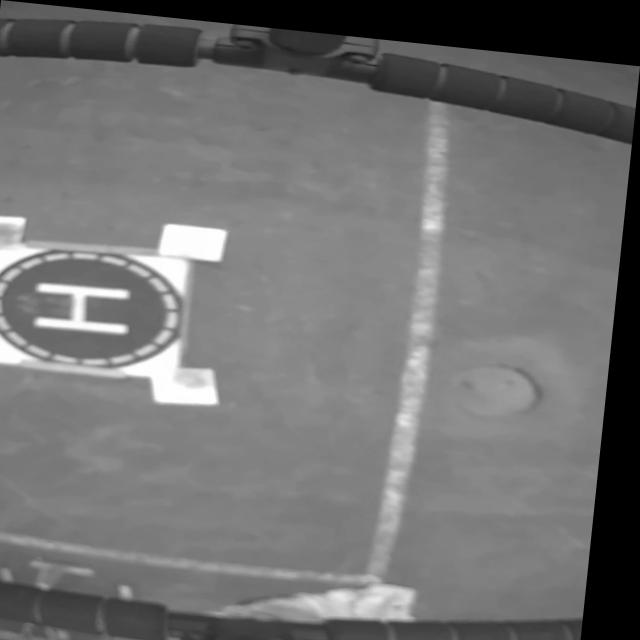Helipad: (38, 279, 139, 332)
